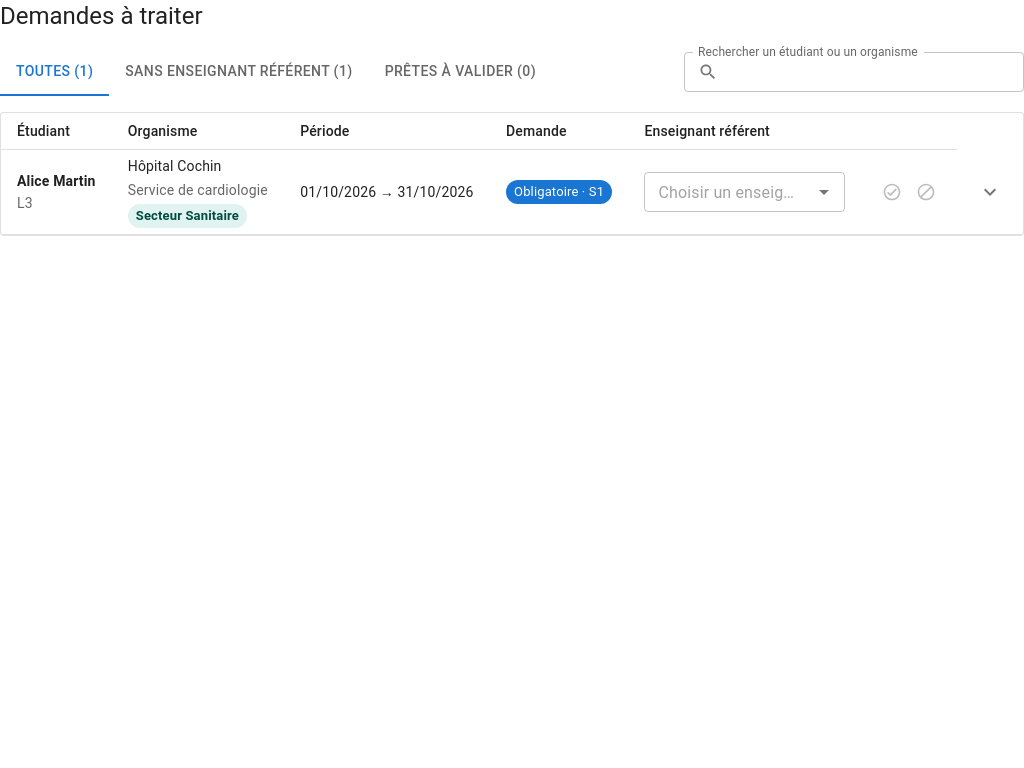
it: StageRequestsPage — issue #146 › impact confirmation — issue #149 › ADR-0014: a change that also reaches the student's other live requests asks first, naming how many and whose, and applies only once confirmed
Click the dropdown: click(728, 192) [650,178,806,206]
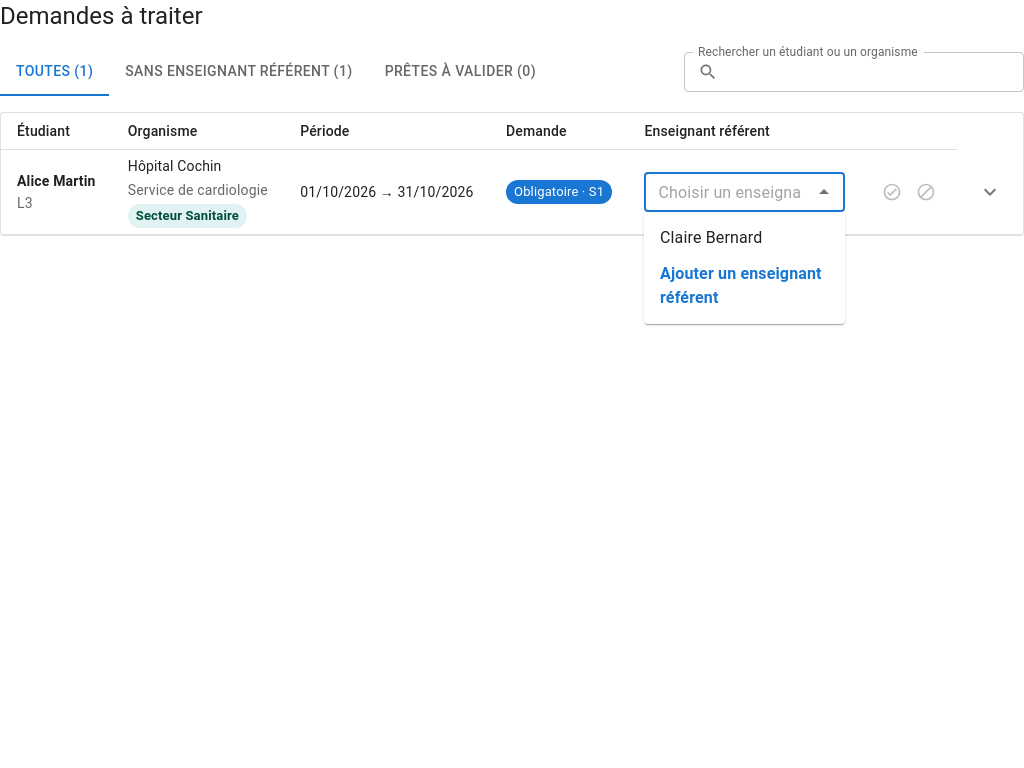
Click the option "Claire Bernard": click(711, 238) [660,228,762,247]
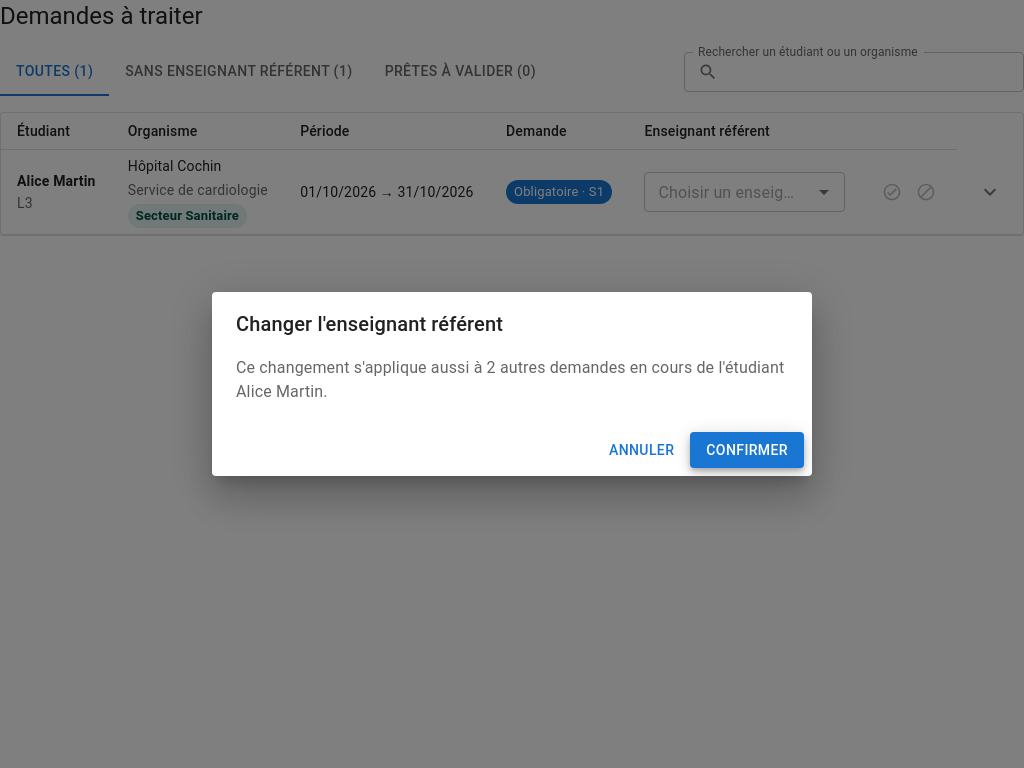
Expected: the text "Ce changement s'applique aussi à 2 autres demandes en cours de l'étudiant Alice Martin." is shown, [236,358,784,401]
Click the button "Confirmer": click(747, 450) [690,432,804,468]
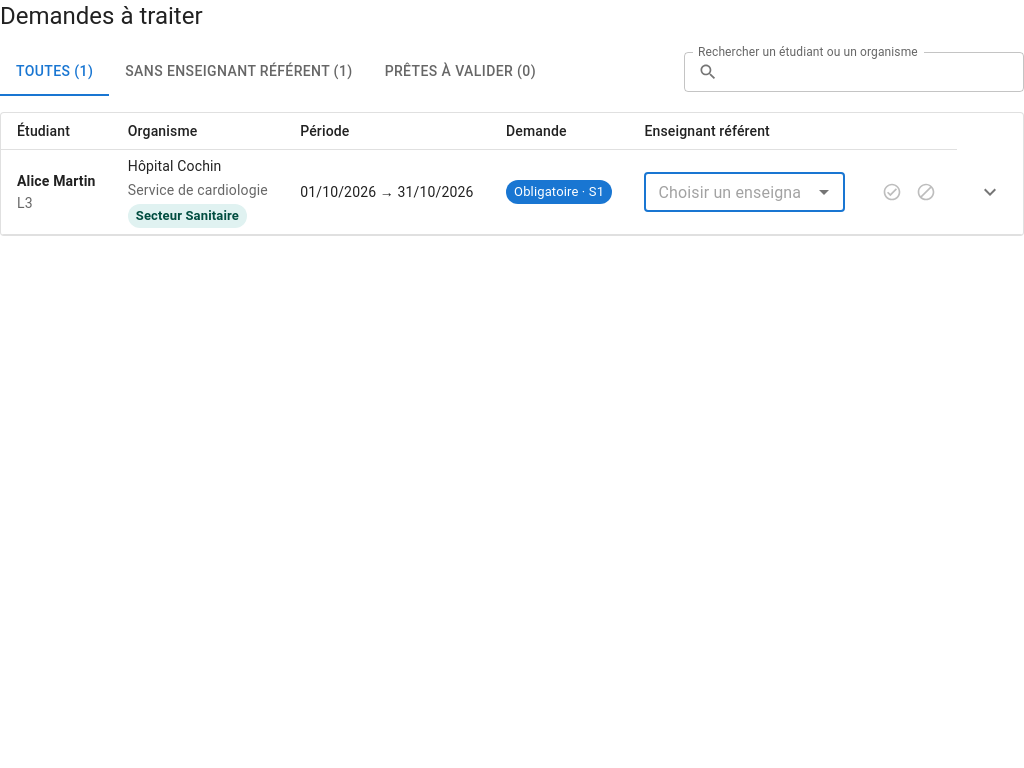
Expected: the dialog is gone
